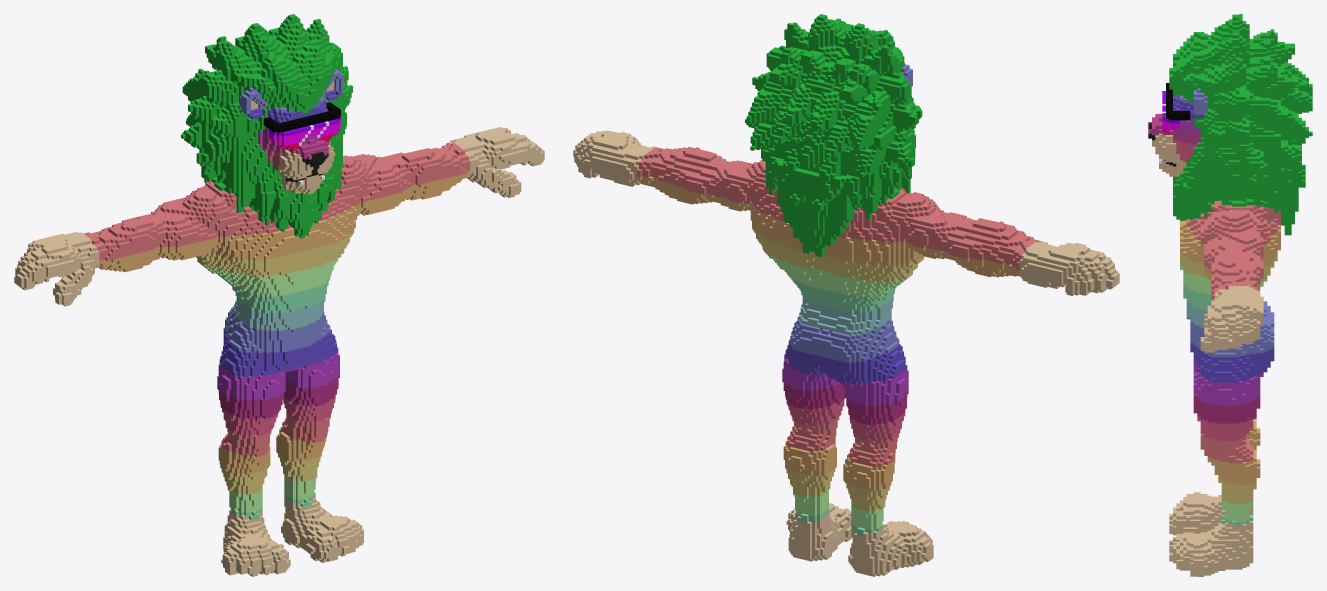
Rendered from 138-M2FbCJpo.glb.
The picture shows the model from 3 angles, left to right: view 1: azimuth 30°, elevation 25°; view 2: azimuth 150°, elevation 25°; view 3: azimuth 270°, elevation 25°; orthographic projection. The views are drawn at different scales.
Parts seen in each view (by area): view 1: standard; view 2: standard; view 3: standard.
Part boxes in pixels (left/top/right/bottom): standard: left=14, top=14, right=544, bottom=576; standard: left=573, top=14, right=1119, bottom=576; standard: left=1148, top=14, right=1312, bottom=576.
Size of the model in its own units: 17.2 by 16.5 by 4.7.
4 materials, 4 textured.
